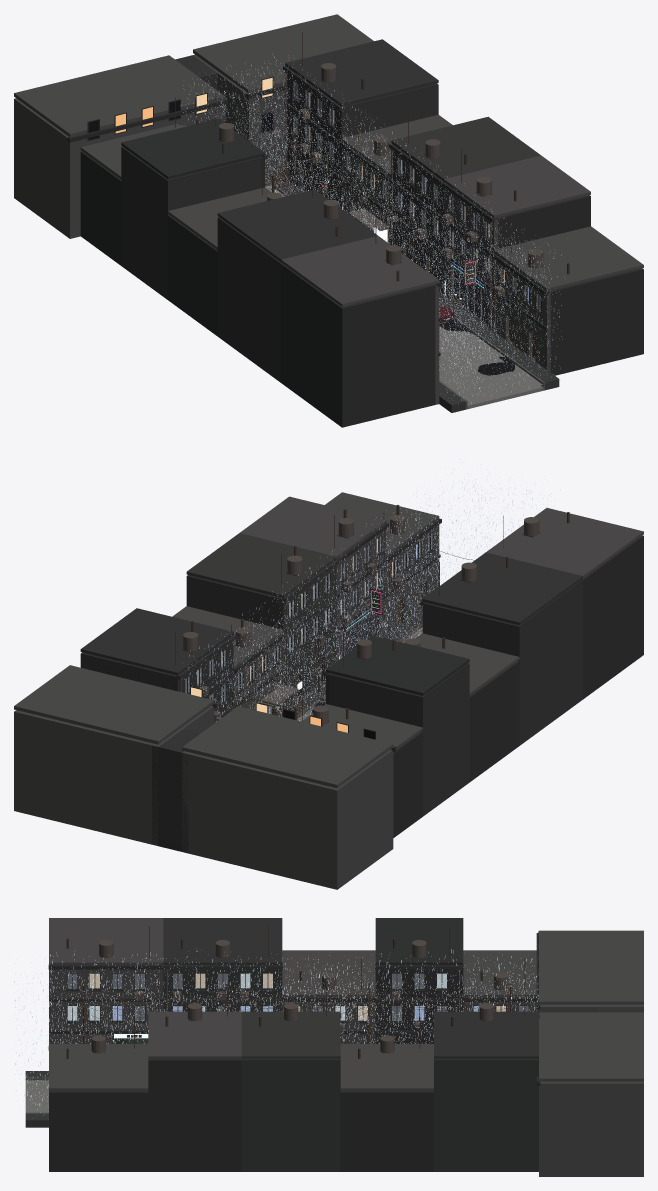
The picture shows the model from 3 angles, top to bottom: view 1: azimuth 30°, elevation 25°; view 2: azimuth 150°, elevation 25°; view 3: azimuth 270°, elevation 25°; orthographic projection. The views are drawn at different scales.
Visible parts, largest first — view 1: BLD_END.001, BLD_LB1.001, BLD_RB1.001, BLD_RB5.001, BLD_LB2.001, BLD_LB4.001, BLD_RB2.001, BLD_RB3.001, Ground_static.001, BLD_LB3.001, Rain_canyon.001, BLD_RB4.001 (+3 smaller); view 2: BLD_END.001, BLD_LB2.001, BLD_RB3.001, BLD_LB4.001, BLD_LB1.001, BLD_RB5.001, BLD_RB2.001, BLD_LB3.001, BLD_RB1.001, Rain_canyon.001, BLD_LB5.001, BLD_RB4.001 (+3 smaller); view 3: BLD_END.001, BLD_RB5.001, BLD_RB3.001, BLD_RB2.001, BLD_LB1.001, BLD_RB1.001, BLD_RB4.001, BLD_LB2.001, BLD_LB4.001, BLD_LB3.001, Rain_canyon.001, BLD_LB5.001 (+3 smaller).
Part boxes in pixels (x1=…): BLD_END.001: x1=14, y1=14, x2=373, y2=238; BLD_LB1.001: x1=281, y1=210, x2=441, y2=427; BLD_RB1.001: x1=491, y1=219, x2=643, y2=375; BLD_RB5.001: x1=283, y1=32, x2=438, y2=208; BLD_LB2.001: x1=217, y1=163, x2=377, y2=382; BLD_LB4.001: x1=121, y1=93, x2=267, y2=299; BLD_RB2.001: x1=442, y1=148, x2=590, y2=330; BLD_RB3.001: x1=388, y1=109, x2=540, y2=294; Ground_static.001: x1=265, y1=179, x2=559, y2=412; BLD_LB3.001: x1=168, y1=161, x2=282, y2=336; Rain_canyon.001: x1=181, y1=57, x2=561, y2=404; BLD_RB4.001: x1=339, y1=107, x2=452, y2=244; BLD_END.001: x1=14, y1=660, x2=396, y2=889; BLD_LB2.001: x1=419, y1=552, x2=582, y2=745; BLD_RB3.001: x1=186, y1=533, x2=338, y2=701; BLD_LB4.001: x1=323, y1=632, x2=469, y2=816; BLD_LB1.001: x1=486, y1=508, x2=643, y2=699; BLD_RB5.001: x1=80, y1=608, x2=236, y2=723; BLD_RB2.001: x1=240, y1=496, x2=388, y2=660; BLD_LB3.001: x1=389, y1=633, x2=519, y2=781; BLD_RB1.001: x1=325, y1=492, x2=441, y2=635; Rain_canyon.001: x1=184, y1=459, x2=562, y2=721; BLD_LB5.001: x1=302, y1=696, x2=422, y2=837; BLD_RB4.001: x1=172, y1=606, x2=286, y2=710; BLD_END.001: x1=536, y1=930, x2=643, y2=1176; BLD_RB5.001: x1=433, y1=984, x2=539, y2=1171; BLD_RB3.001: x1=241, y1=984, x2=341, y2=1171; BLD_RB2.001: x1=147, y1=984, x2=241, y2=1171; BLD_LB1.001: x1=48, y1=918, x2=163, y2=1043; BLD_RB1.001: x1=48, y1=1016, x2=148, y2=1171; BLD_RB4.001: x1=340, y1=1017, x2=433, y2=1171; BLD_LB2.001: x1=163, y1=918, x2=282, y2=1011; BLD_LB4.001: x1=375, y1=918, x2=463, y2=1043; BLD_LB3.001: x1=282, y1=950, x2=376, y2=1043; Rain_canyon.001: x1=14, y1=949, x2=538, y2=1112; BLD_LB5.001: x1=462, y1=950, x2=538, y2=1011.
Bounding box in the file's own units: 30.3 × 13.95 × 54.01.
